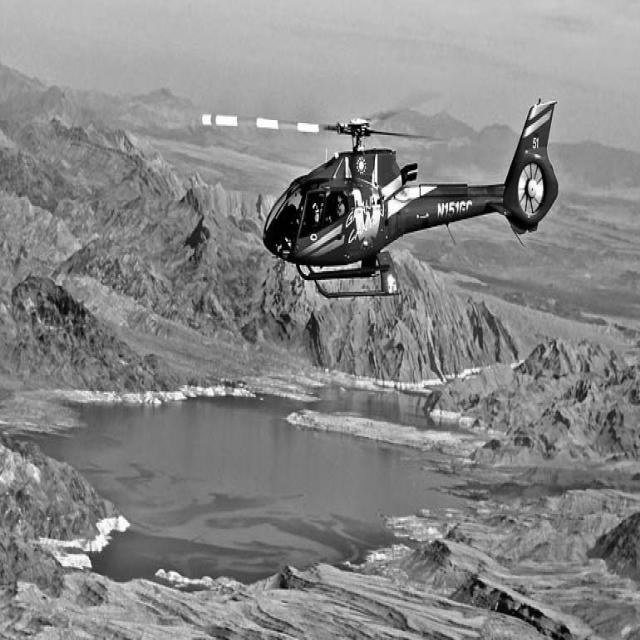helicopter: (193, 68, 573, 321)
